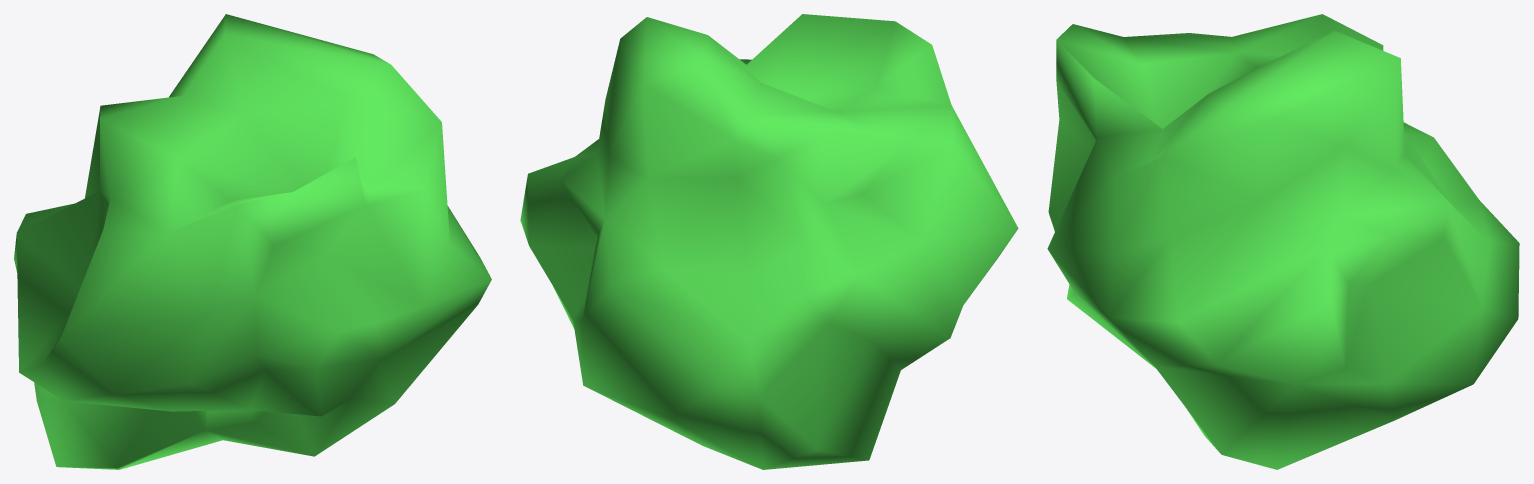
File: f_PapierDechire.fbx
3 views of the same model, side by side, from view 1: azimuth 30°, elevation 25°; view 2: azimuth 150°, elevation 25°; view 3: azimuth 270°, elevation 25° (orthographic). The views are drawn at different scales.
Visible parts, largest first — view 1: ScratchedPaper_LD; view 2: ScratchedPaper_LD; view 3: ScratchedPaper_LD.
Part boxes in pixels (x1,y1,x2,y2): ScratchedPaper_LD: (14, 14, 491, 469); ScratchedPaper_LD: (520, 14, 1018, 469); ScratchedPaper_LD: (1047, 14, 1519, 469).
Size of the model in its own units: 14.23 by 11.69 by 12.13.
